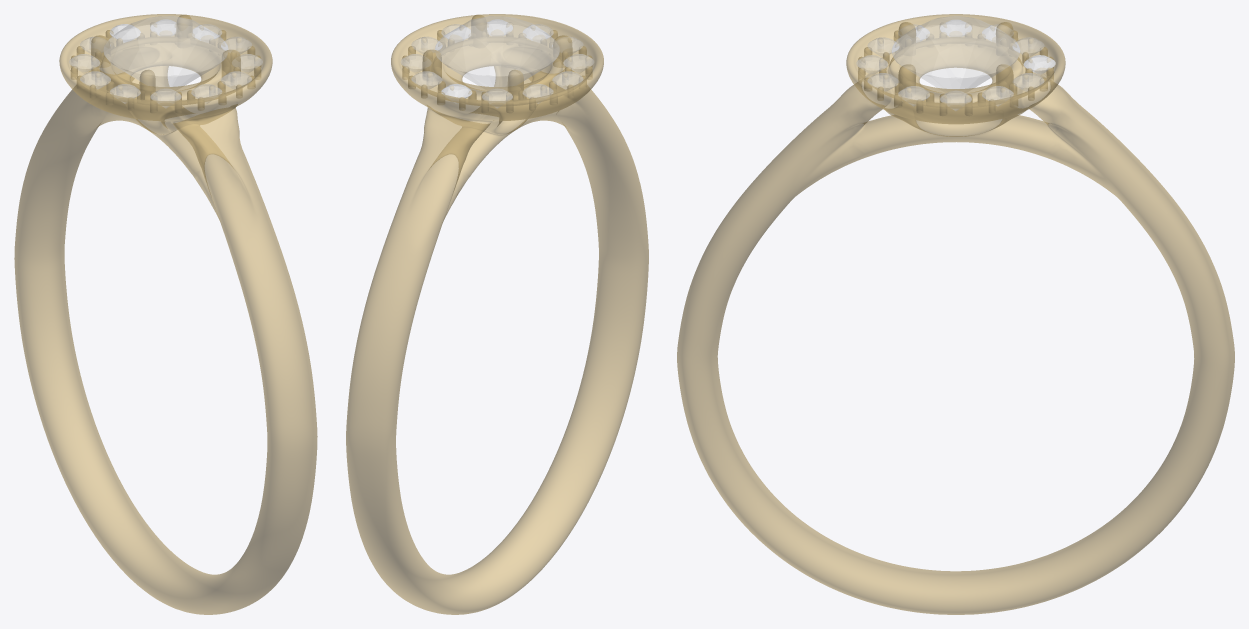
3 views of the same model, side by side, from view 1: azimuth 30°, elevation 25°; view 2: azimuth 150°, elevation 25°; view 3: azimuth 270°, elevation 25° (orthographic). The views are drawn at different scales.
Visible parts, largest first — view 1: Ring, Diamond; view 2: Ring, Diamond; view 3: Ring, Diamond.
Boxes of the visible parts, <box> form: Ring: <box>14,14,317,614</box>; Diamond: <box>69,16,262,107</box>; Ring: <box>346,14,648,614</box>; Diamond: <box>400,16,593,108</box>; Ring: <box>677,14,1234,614</box>; Diamond: <box>856,16,1055,110</box>.
Size of the model in its own units: 0.9033 by 2.64 by 2.3.
